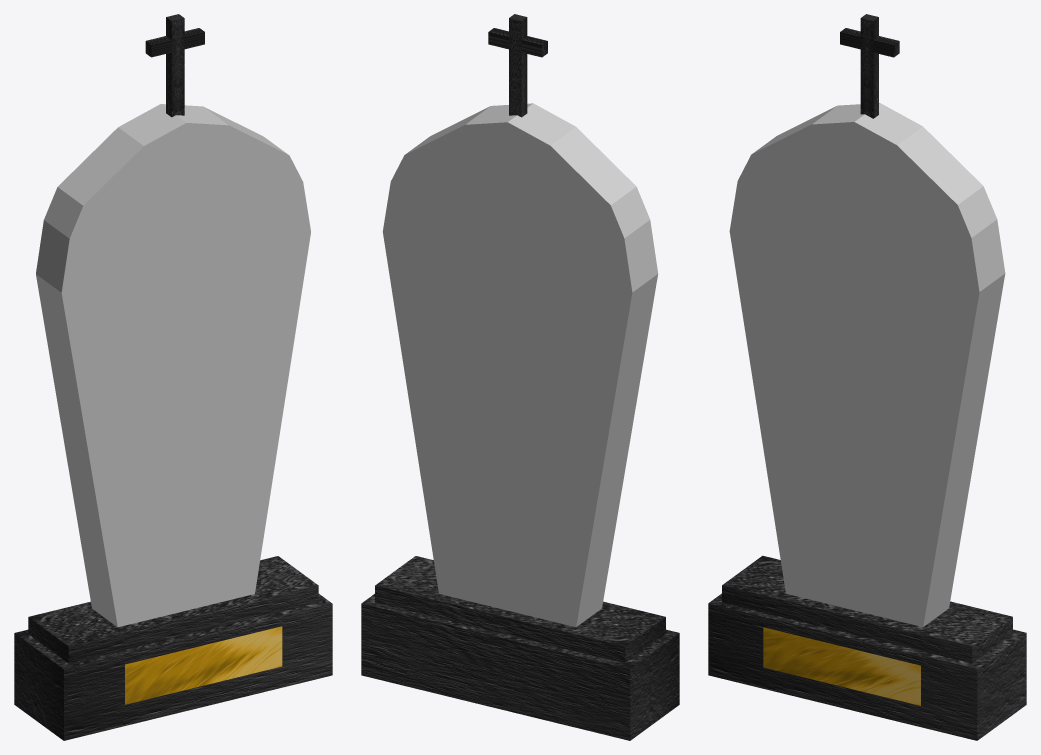
Rendered from Lápide.fbx.
3 renders of one model, left to right at view 1: azimuth 30°, elevation 25°; view 2: azimuth 150°, elevation 25°; view 3: azimuth 330°, elevation 25°, orthographic.
Parts seen in each view (by area): view 1: Cube, Cube.003, Cube.002, Plane, Cube.001; view 2: Cube, Cube.003, Cube.002, Cube.001; view 3: Cube, Cube.003, Cube.002, Plane, Cube.001.
Part boxes in pixels (x1=…): Cube: x1=36, y1=104, x2=310, y2=627; Cube.003: x1=14, y1=594, x2=332, y2=740; Cube.002: x1=28, y1=556, x2=318, y2=663; Plane: x1=125, y1=626, x2=282, y2=704; Cube.001: x1=145, y1=14, x2=204, y2=117; Cube: x1=382, y1=103, x2=658, y2=627; Cube.003: x1=361, y1=594, x2=679, y2=740; Cube.002: x1=375, y1=556, x2=665, y2=663; Cube.001: x1=488, y1=14, x2=547, y2=117; Cube: x1=729, y1=103, x2=1005, y2=626; Cube.003: x1=708, y1=593, x2=1026, y2=740; Cube.002: x1=722, y1=555, x2=1012, y2=663; Plane: x1=763, y1=627, x2=920, y2=705; Cube.001: x1=840, y1=14, x2=899, y2=118.
Bounding box in the file's own units: 129 × 307 × 43.54.
